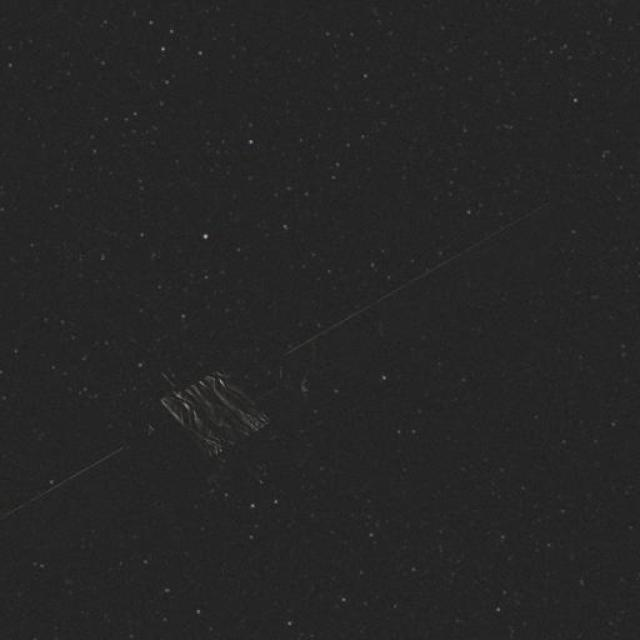smart_1: (77, 278, 415, 480)
